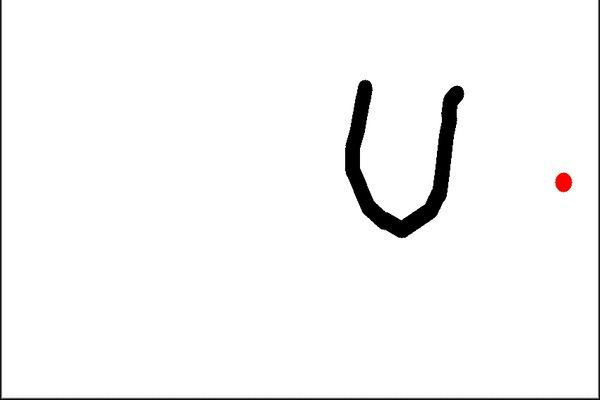U: (336, 72, 467, 238)
